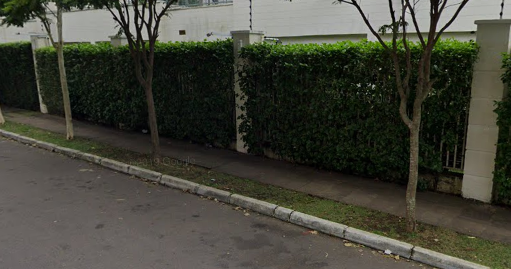vag91: (5, 88, 387, 269)
